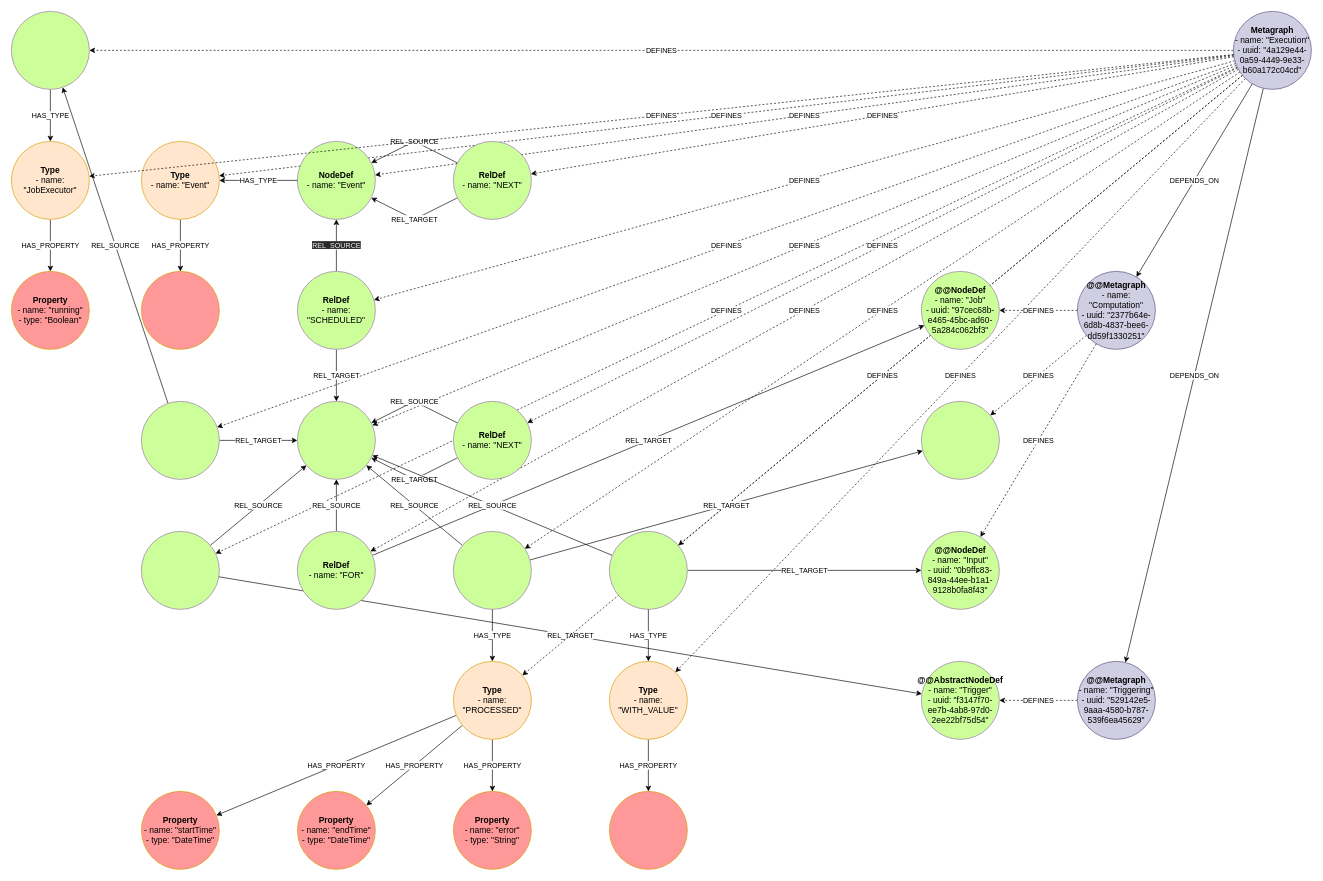
The diagram is 1323 pixels wide and 881 high, and some of its shapes have lost their labels. Here are the shapes that lost their labels. From the top down, the centre of each, then its label:
pixel 50 50: NodeDef - name: "JobExecutor"
pixel 180 310: Property - name: "timestamp" - type: "DateTime"
pixel 180 440: RelDef - name: "CURRENT"
pixel 336 440: NodeDef - name: "JobExecution"
pixel 960 440: @@NodeDef - name: "Task" - uuid: "5ee1620e-ae0c-4b53-b522-8776dd2b88d0"
pixel 180 570: RelDef - name: "TRIGGERED_BY"
pixel 492 570: RelDef - name: "PROCESSED"
pixel 648 570: RelDef - name: "WITH_VALUE"
pixel 648 830: Property - name: "referenceUuid" - type: "String"
